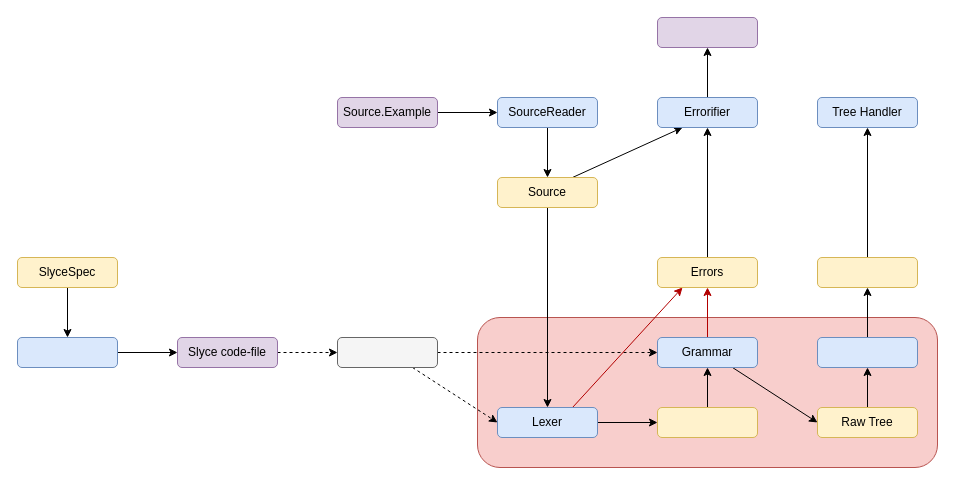
The diagram is 955 pixels wide and 485 high, and some of its shapes have lost their labels. Each missing label, with the box of its shape:
Error Output: (656, 16, 758, 48)
Simple Tree: (816, 256, 918, 288)
Simplifier: (816, 336, 918, 368)
SpecWriter: (16, 336, 118, 368)
Tokens: (656, 406, 758, 438)
~ Compiler: (336, 336, 438, 368)
